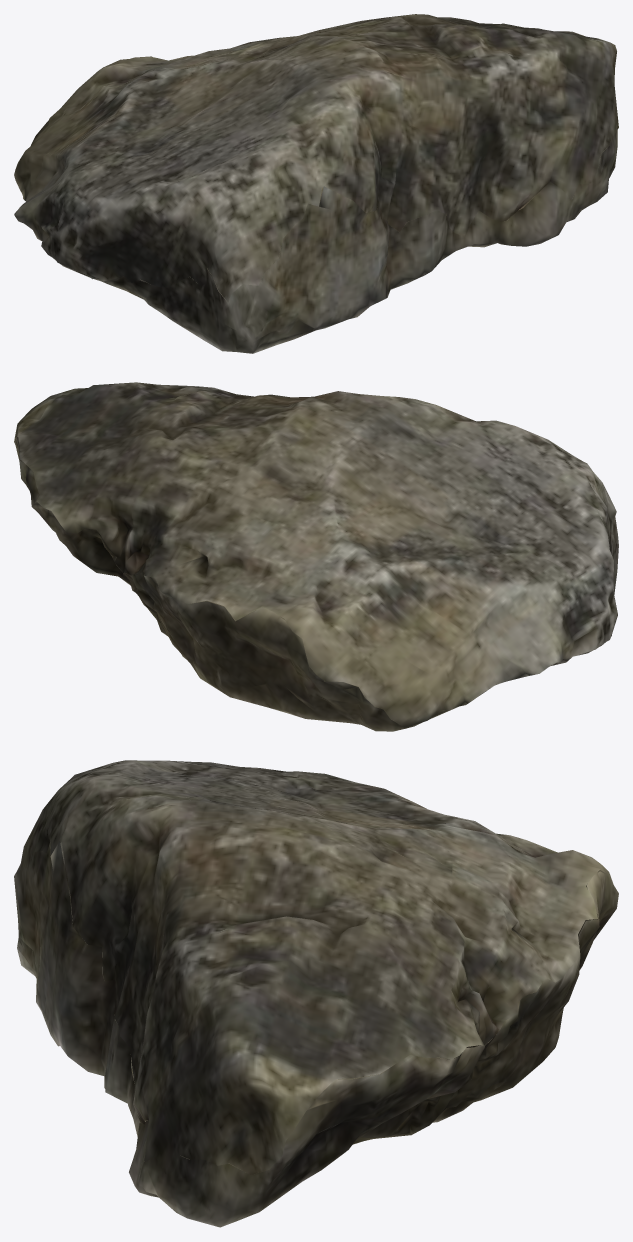
Rendered from moss-rock.glb.
The picture shows the model from 3 angles, top to bottom: view 1: azimuth 30°, elevation 25°; view 2: azimuth 150°, elevation 25°; view 3: azimuth 270°, elevation 25°; orthographic projection. The views are drawn at different scales.
Visible parts, largest first — view 1: rock_moss_set_02_rock10; view 2: rock_moss_set_02_rock10; view 3: rock_moss_set_02_rock10.
Part boxes in pixels (bbox=[...]): rock_moss_set_02_rock10: bbox=[14, 14, 618, 353]; rock_moss_set_02_rock10: bbox=[14, 382, 618, 731]; rock_moss_set_02_rock10: bbox=[14, 760, 618, 1227].
Size of the model in its own units: 2.2 by 0.7662 by 1.55.
Materials: 1 (1 with a texture image).
